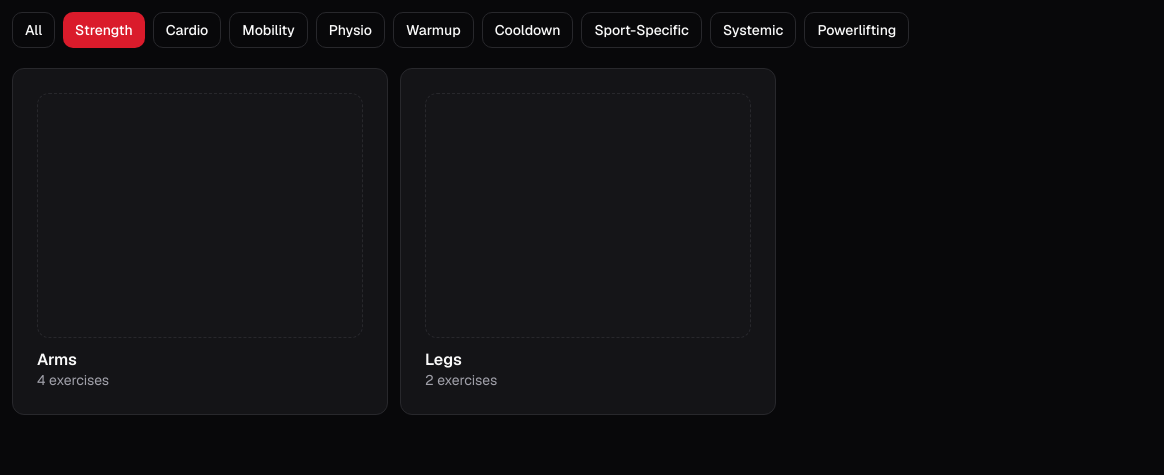
Scenario: ExercisesTab — by-muscle browse › drills region → muscle → exercise, updating the breadcrumb and showing client_name
Step 1. Click the button "Arms 4 exercises" → (200, 241), box top-left (12, 68), bottom-right (388, 414)
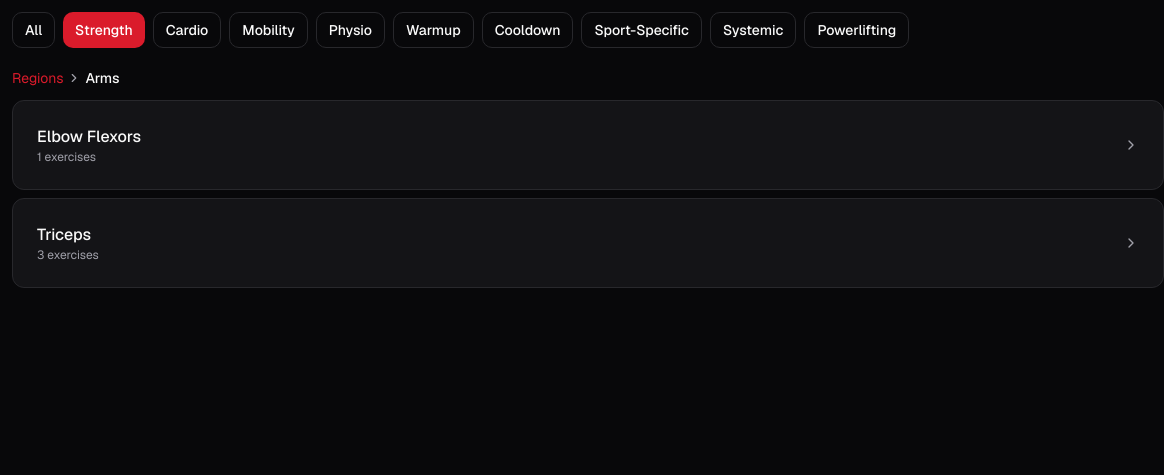
Expected: the text "Regions" is shown, top-left (12, 68), bottom-right (64, 88)
Expected: the text "Elbow Flexors" is shown, top-left (37, 125), bottom-right (141, 149)
Expected: the text "Triceps" is shown, top-left (37, 223), bottom-right (99, 247)
Step 2. Click the button "Triceps 3 exercises" → (64, 234), box top-left (12, 198), bottom-right (1163, 288)
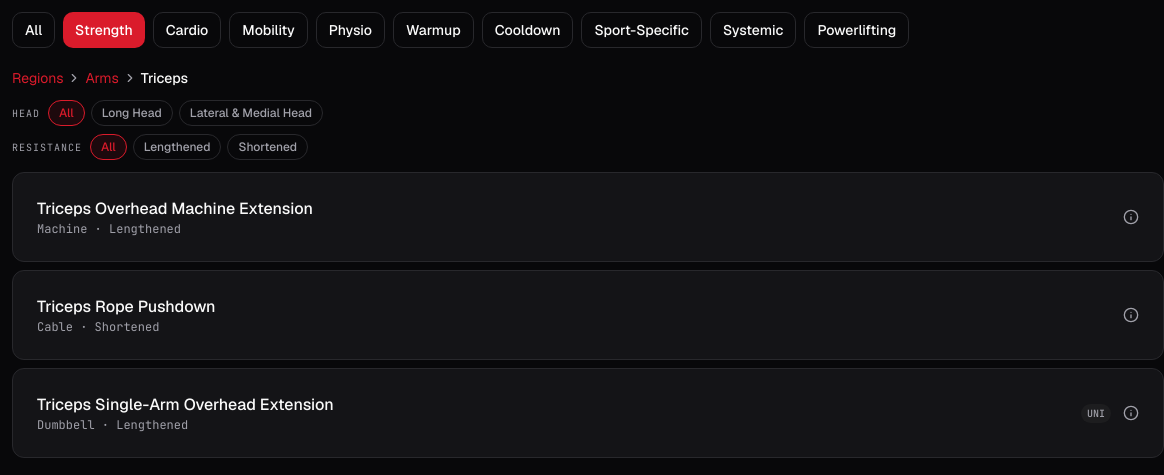
Expected: the text "Triceps" is shown, top-left (141, 68), bottom-right (188, 88)
Expected: the text "Triceps Rope Pushdown" is shown, top-left (37, 296), bottom-right (216, 317)
Expected: the text "Cable" is shown, top-left (37, 319), bottom-right (159, 335)
